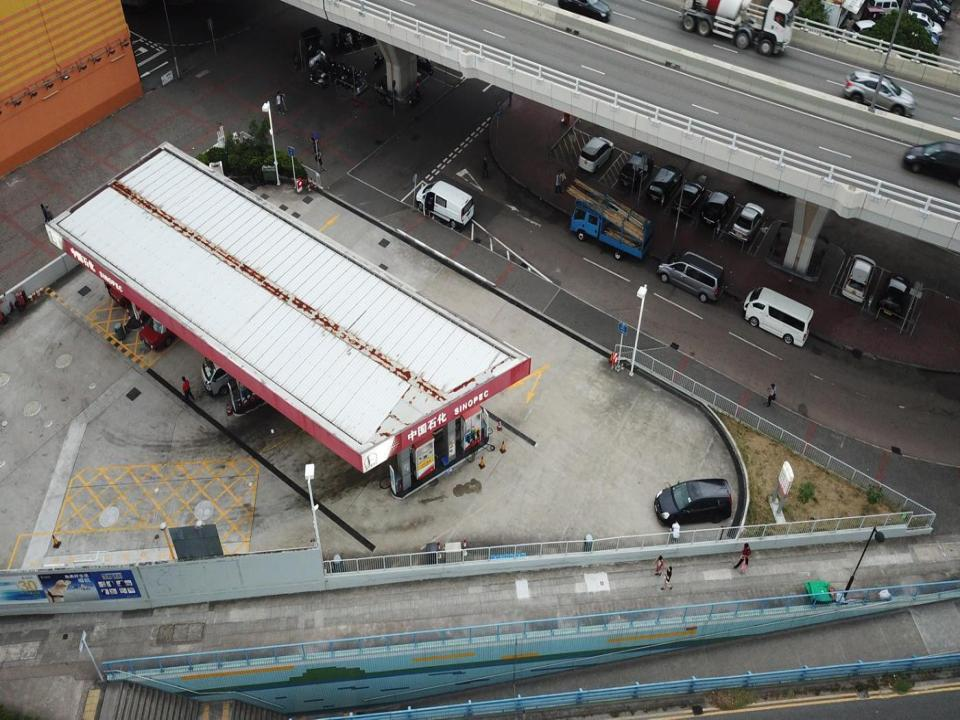car: (654, 474, 734, 529), (655, 250, 725, 307), (137, 290, 198, 352), (843, 69, 915, 120), (416, 178, 474, 230), (904, 140, 960, 186), (841, 253, 877, 303), (646, 162, 682, 211), (618, 150, 653, 194), (730, 200, 766, 242), (578, 132, 614, 174), (701, 188, 734, 232), (672, 176, 704, 221), (878, 272, 904, 321), (555, 0, 611, 21)
truck: (566, 176, 655, 262), (680, 0, 794, 58)
van: (742, 287, 814, 348), (202, 331, 266, 399)
